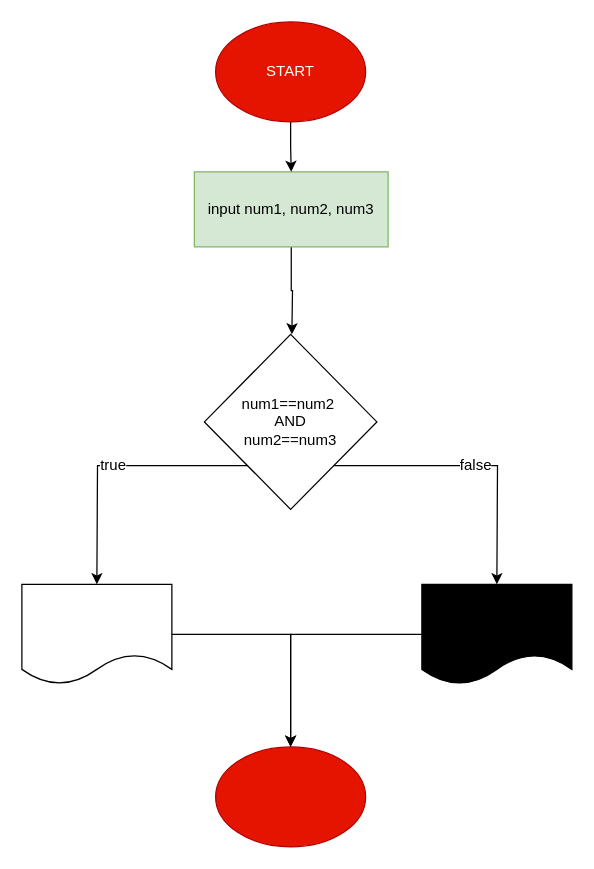
This 594x869 diagram has some shape labels left out. The shapes that lost their labels are listed below. From the top down, each one's centre as x and y in pixels, then its label:
the point at 96,633: print equal
the point at 290,796: END
